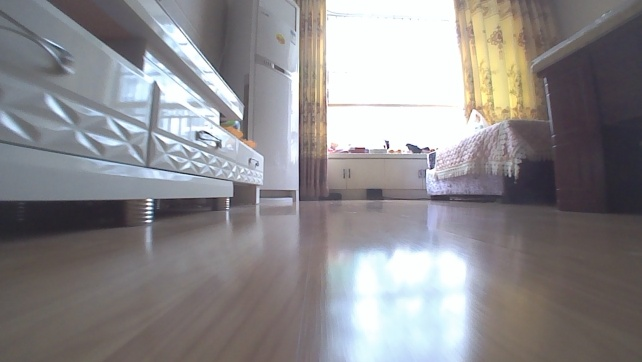TV_stand1: (0, 0, 266, 227)
sofa1: (420, 114, 556, 208)
tea_table1: (530, 0, 641, 217)
